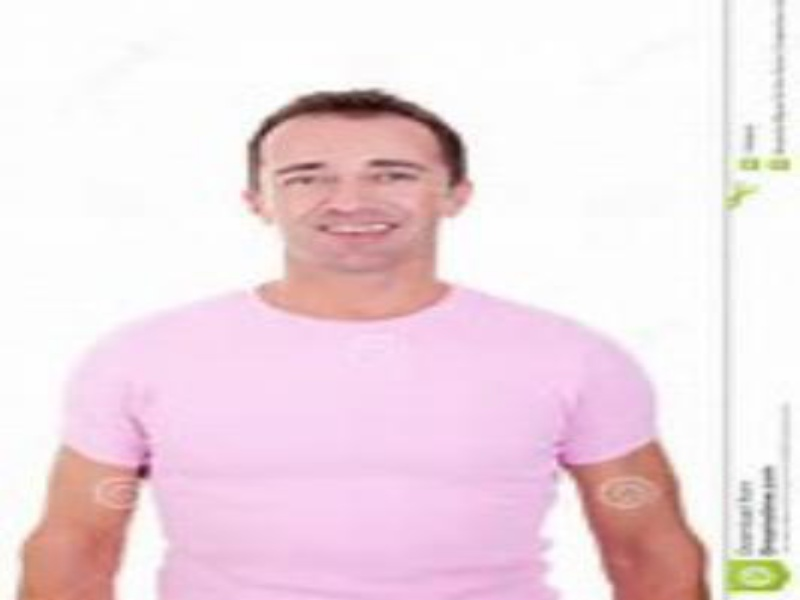TsisyArotava: (231, 88, 513, 312)
